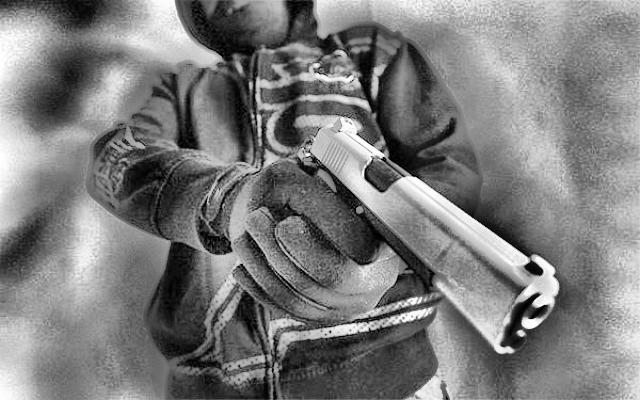pistol: (262, 108, 560, 354)
